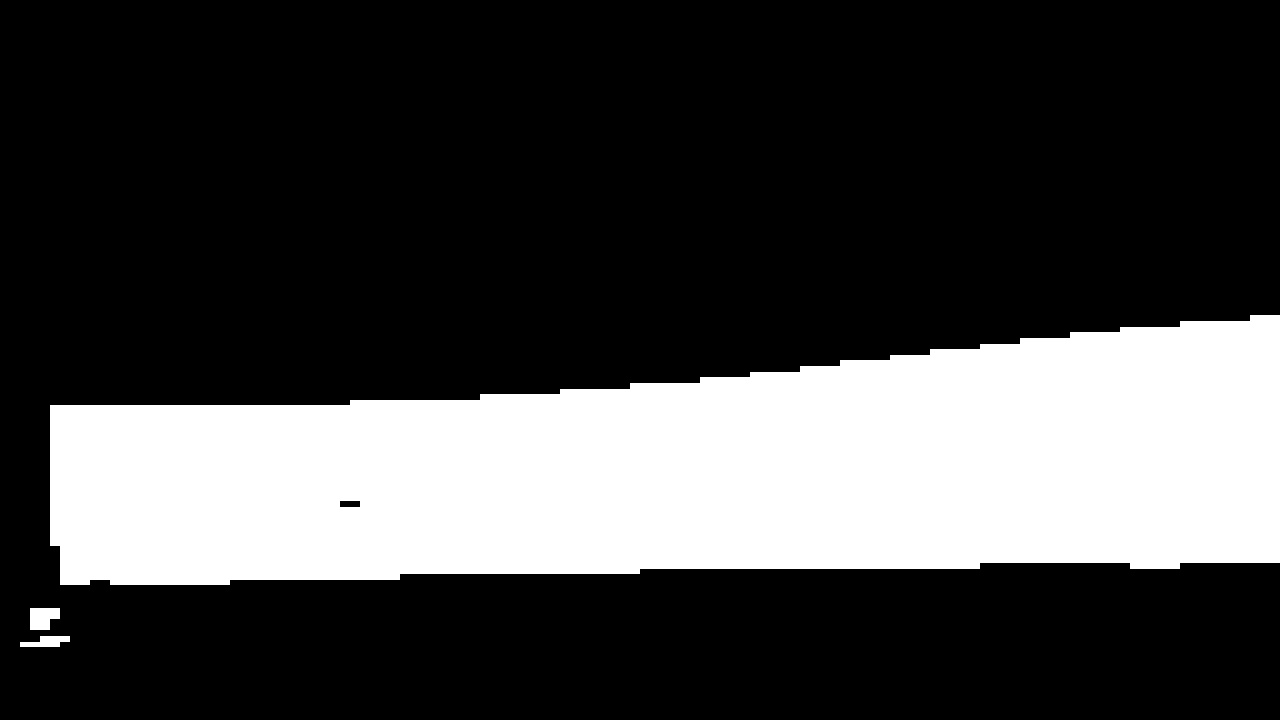Turbine: (45, 298, 1268, 599)
